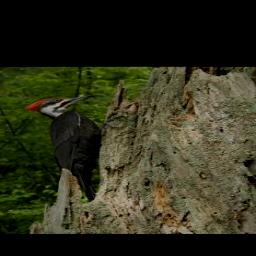Woodpecker: (23, 94, 127, 203)
